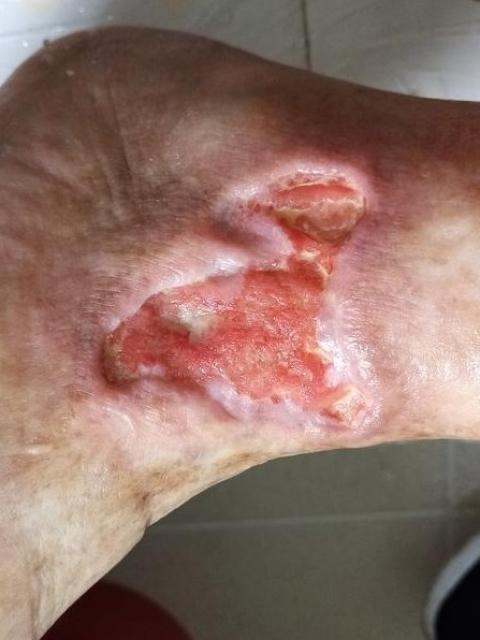wound: (100, 175, 366, 425)
